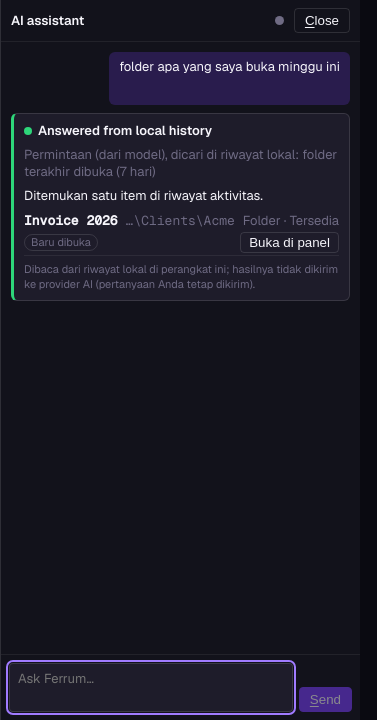
Test case: ActivityAnswerCard in ChatPanel › a refused location shows a note and places nothing
Click the button with test id "open-item".
click(290, 242)  # box top-left (240, 232), bottom-right (339, 253)
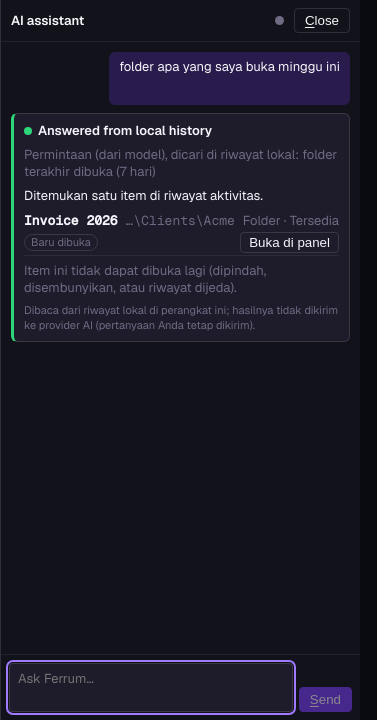
Check: the message with test id "open-note" shows "tidak dapat dibuka", box top-left (24, 262), bottom-right (266, 296)
